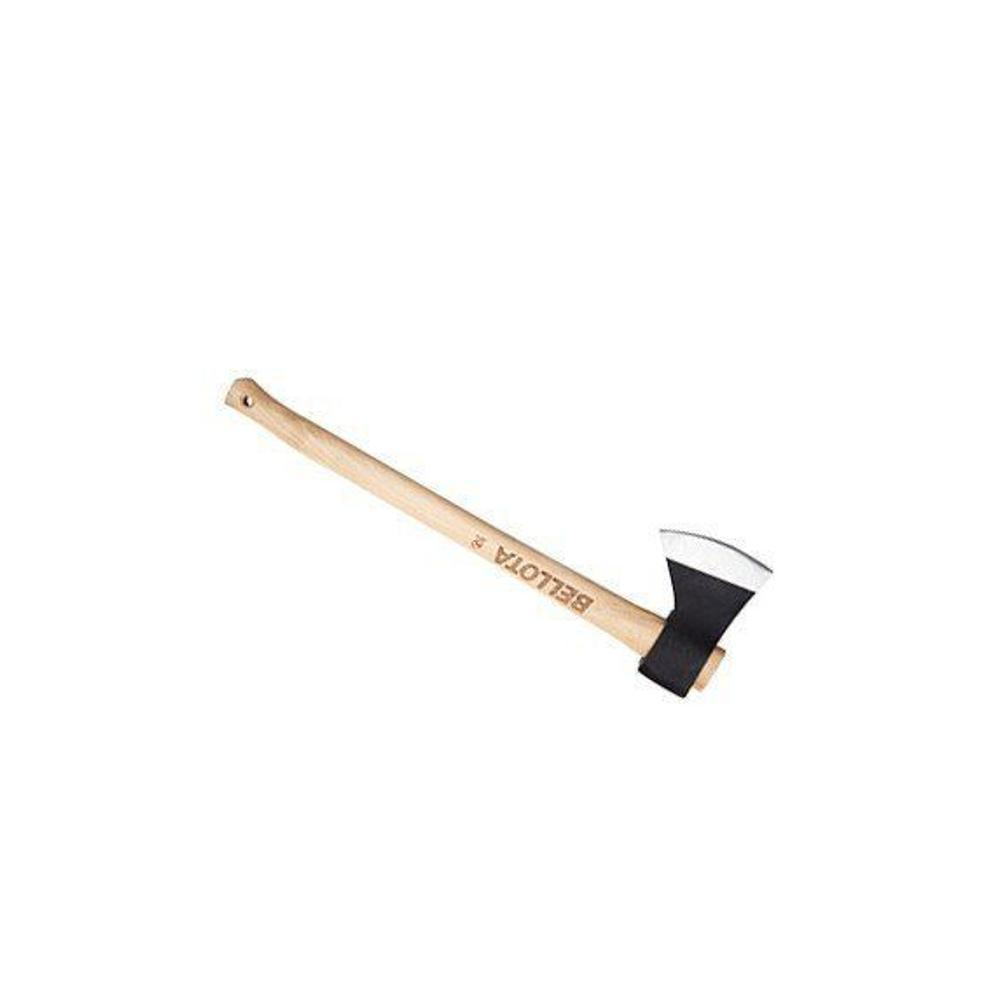machado: (226, 378, 771, 697)
